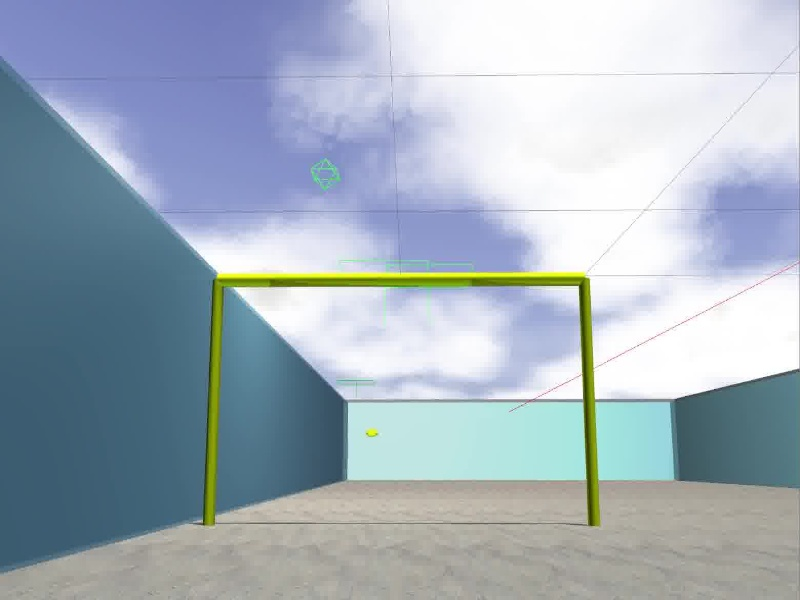gate: (200, 270, 603, 527)
